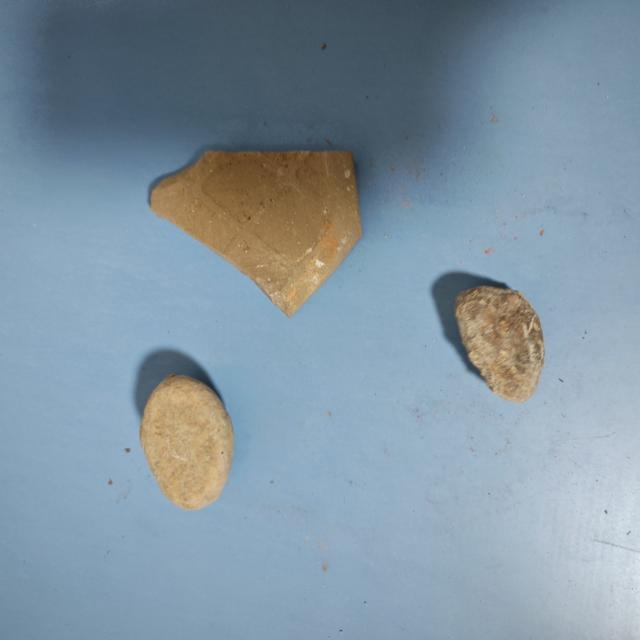-Other waste - ceramic-: (144, 146, 363, 321)
-Other waste - pebble-: (137, 371, 236, 510), (458, 282, 544, 398)
